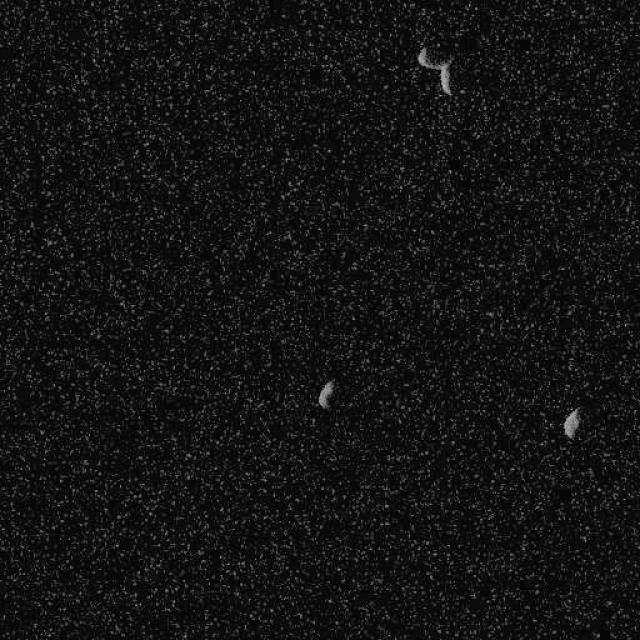D2: (416, 44, 455, 96), (561, 406, 581, 440), (316, 378, 335, 410)
